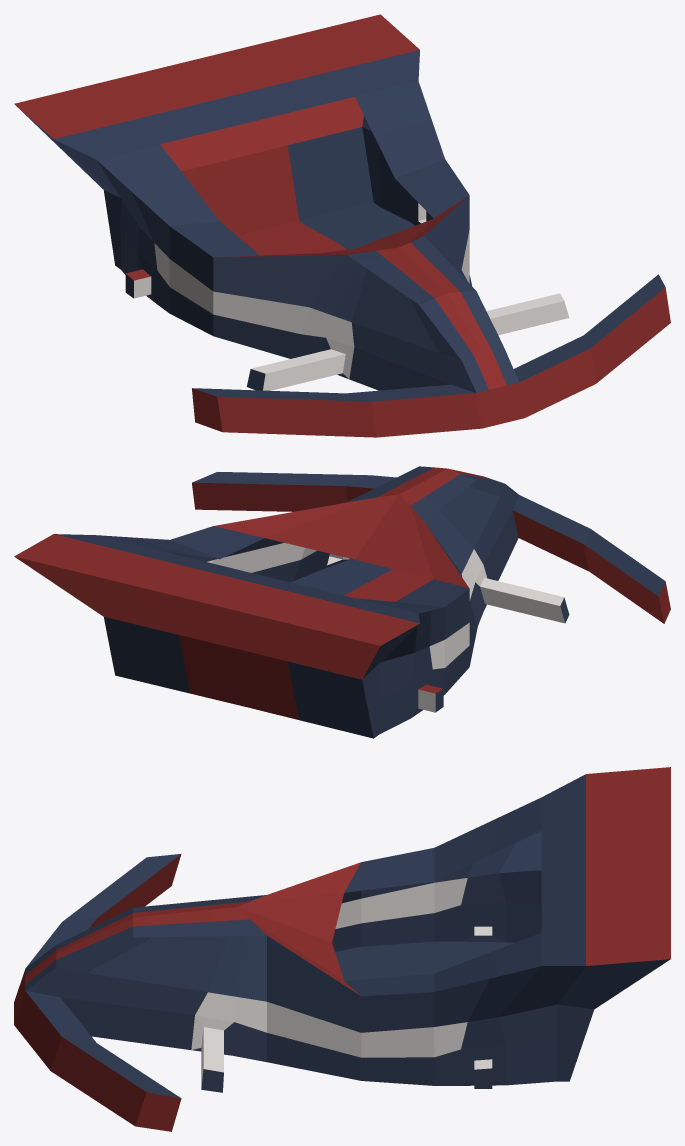
File: KART 1.fbx
3 views of the same model, one above another, from view 1: azimuth 30°, elevation 25°; view 2: azimuth 150°, elevation 25°; view 3: azimuth 270°, elevation 25° (orthographic). The views are drawn at different scales.
Parts seen in each view (by area): view 1: Cube; view 2: Cube; view 3: Cube.
Boxes of the visible parts, x1,y1,x2,y2 form: Cube: (14,14,670,437); Cube: (14,466,670,738); Cube: (14,767,670,1131).
Bounding box in the file's own units: 247 × 70.66 × 279.
